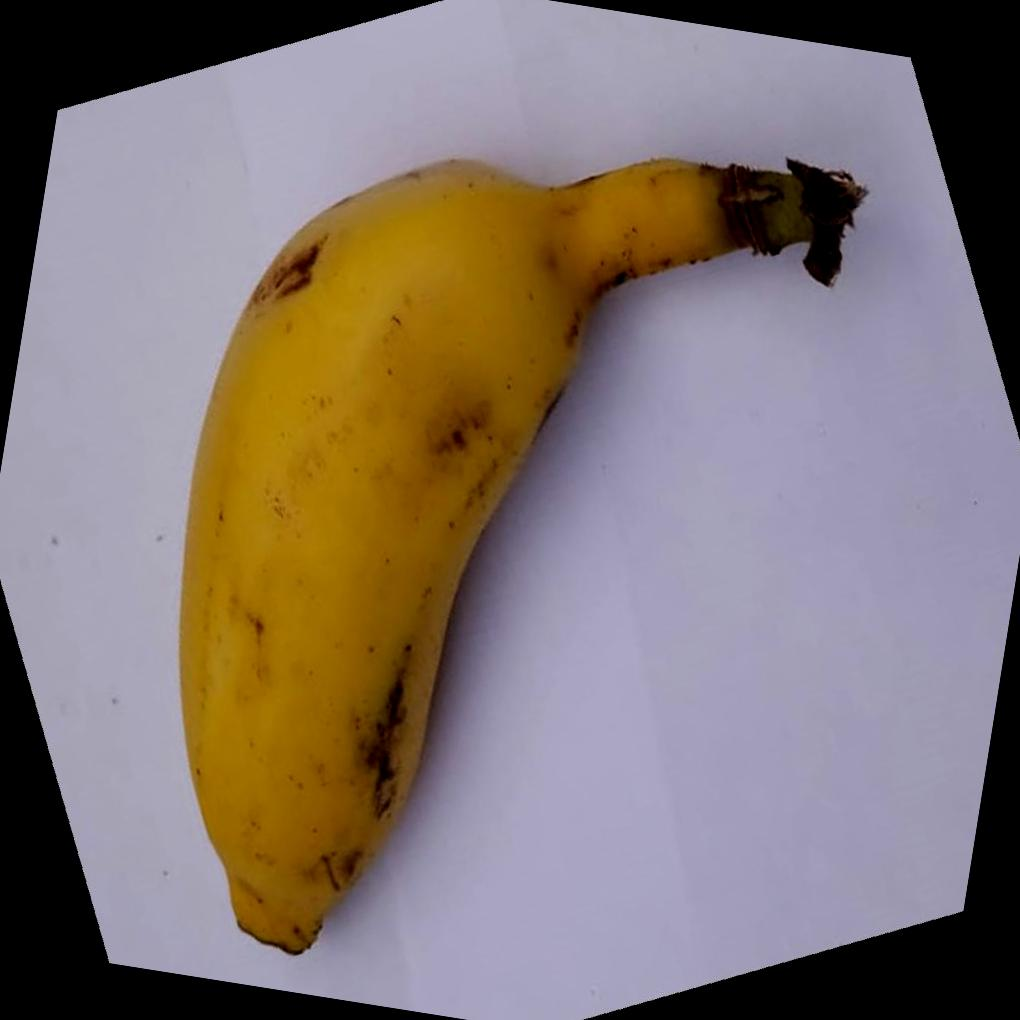Banana Ripe: (93, 63, 912, 1020)
